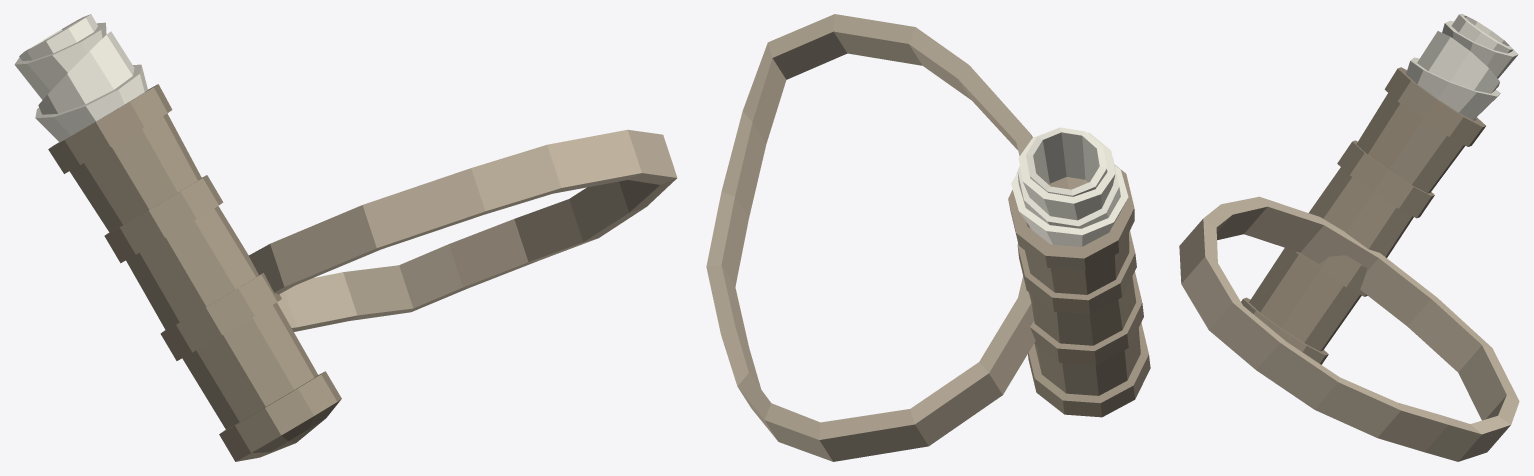
File: scroll.fbx
3 renders of one model, left to right at view 1: azimuth 30°, elevation 25°; view 2: azimuth 150°, elevation 25°; view 3: azimuth 270°, elevation 25°, orthographic. The views are drawn at different scales.
Parts seen in each view (by area): view 1: Golem_1; view 2: Golem_1; view 3: Golem_1.
Part boxes in pixels (x1,y1,x2,y2): Golem_1: [14, 14, 677, 461]; Golem_1: [706, 14, 1150, 461]; Golem_1: [1179, 14, 1519, 461].
Size of the model in its own units: 0.9925 by 0.7313 by 0.7036.
